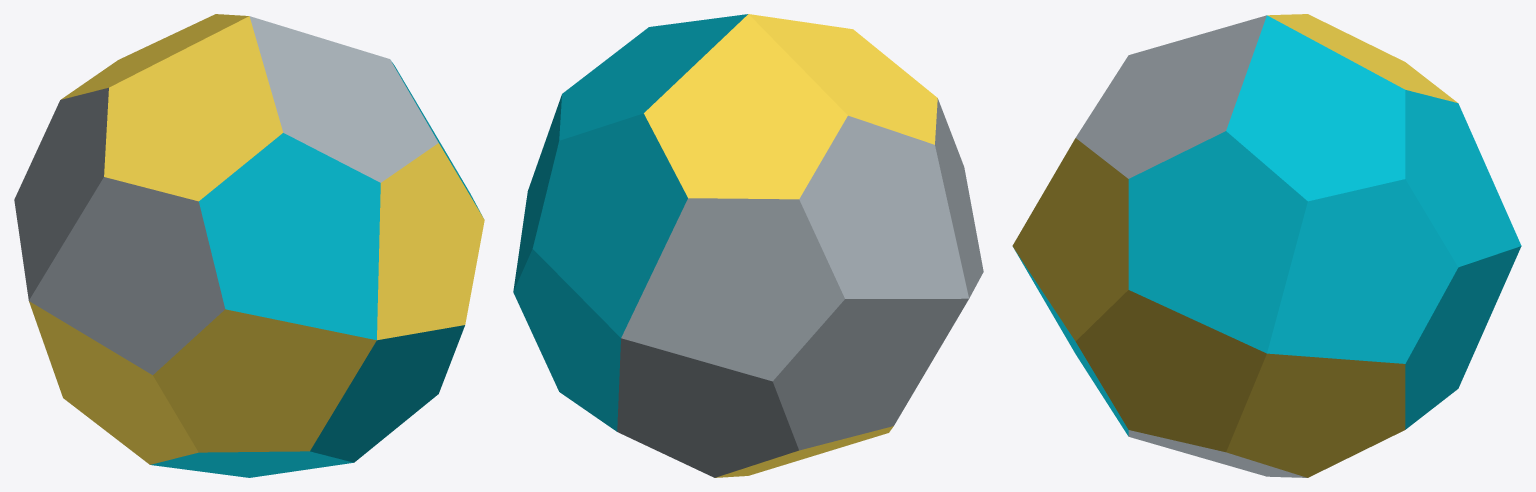
Rendered from PentagonalIcositetrahedron.glb.
The picture shows the model from 3 angles, left to right: view 1: azimuth 30°, elevation 25°; view 2: azimuth 150°, elevation 25°; view 3: azimuth 270°, elevation 25°; orthographic projection.
Bounding box in the file's own units: 4.59 × 4.59 × 4.59.
